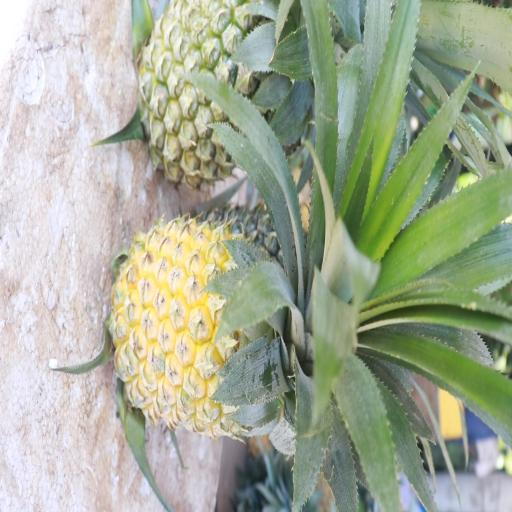------------------------------: (140, 0, 342, 183)
Pineapple - v8 v1: (116, 222, 369, 429)
